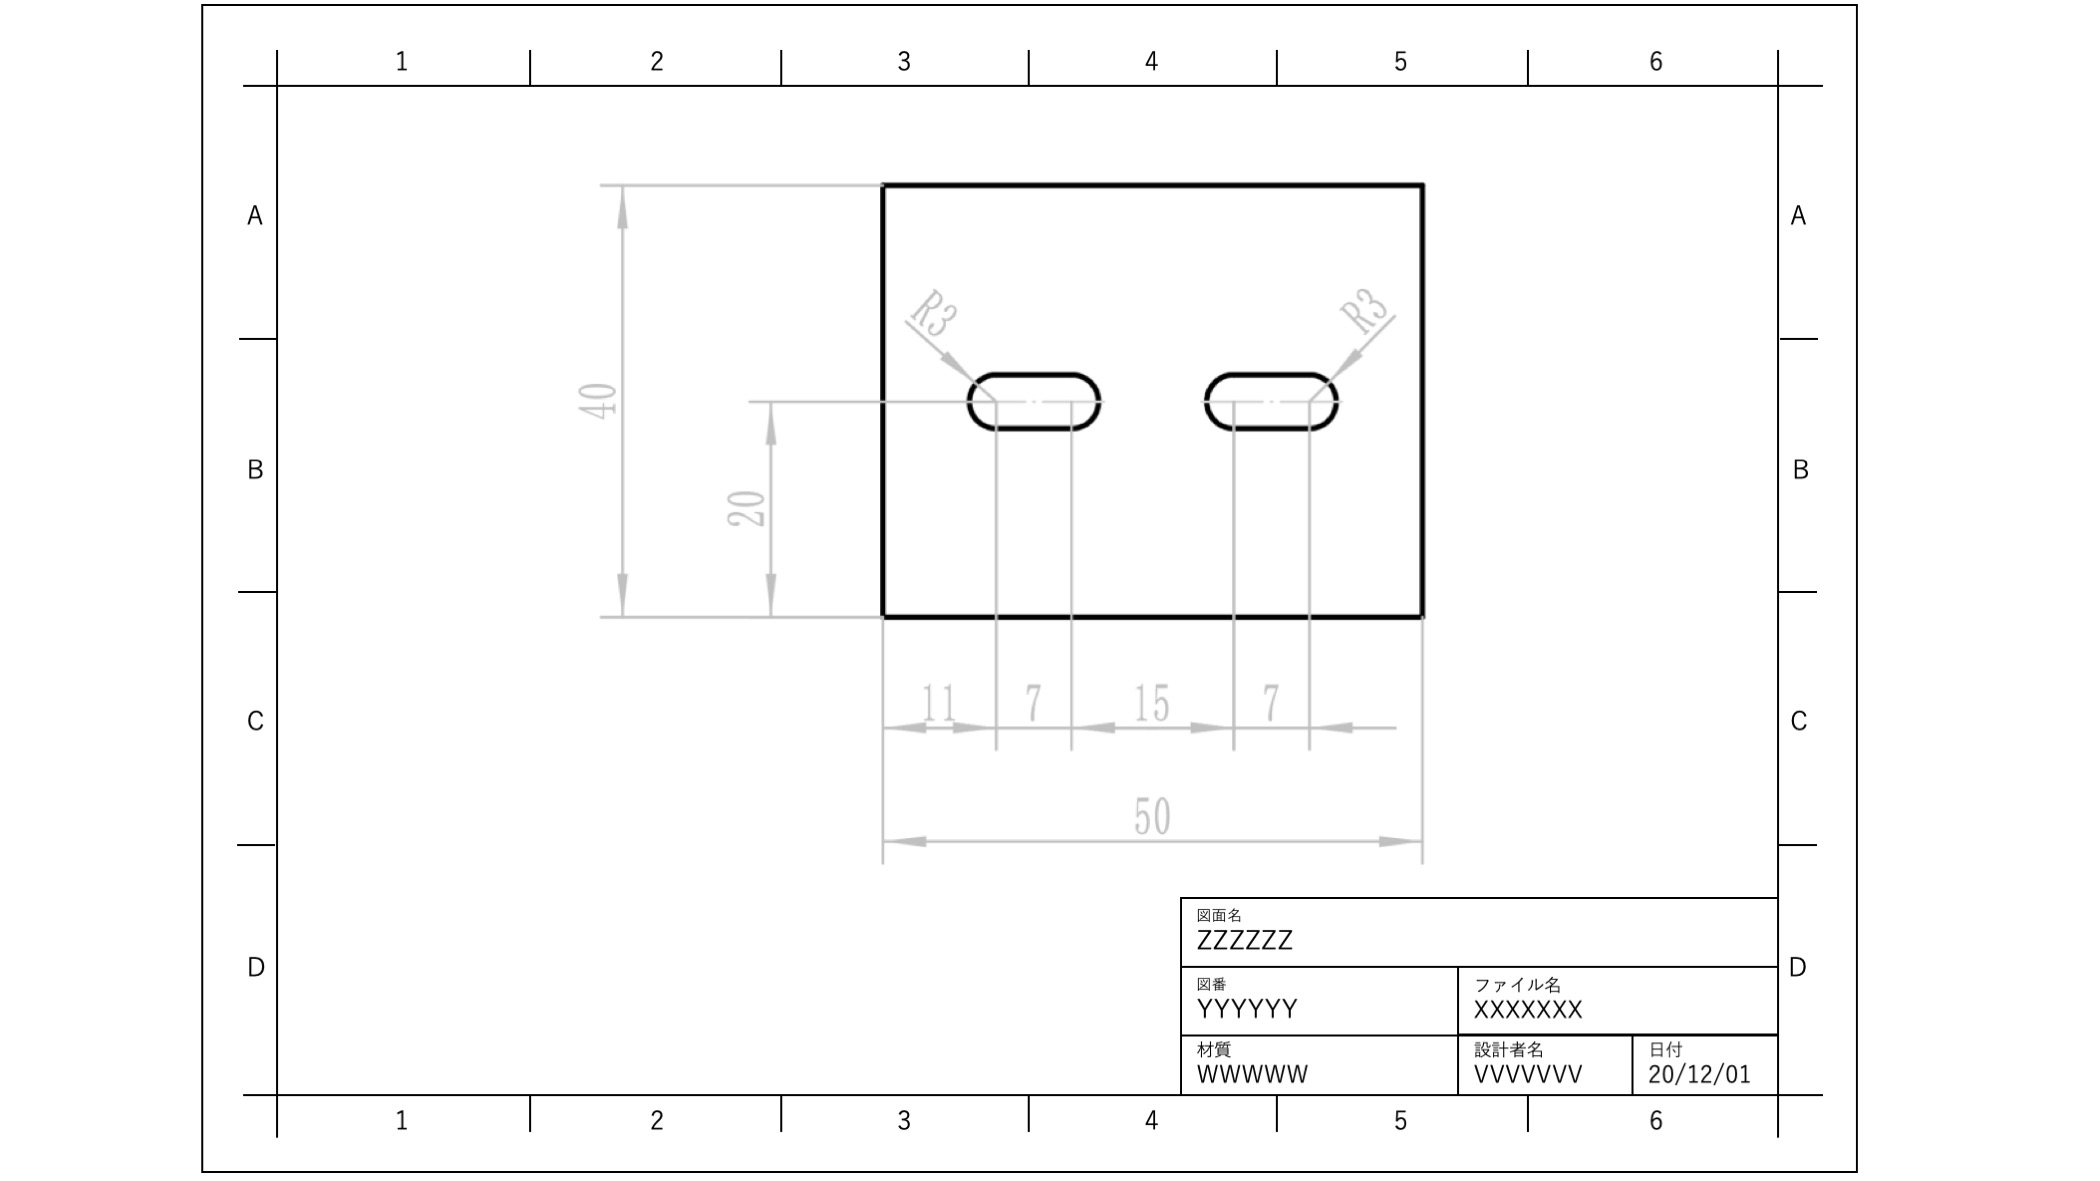round_rectangle: (961, 359, 1103, 443), (1201, 358, 1350, 437)
